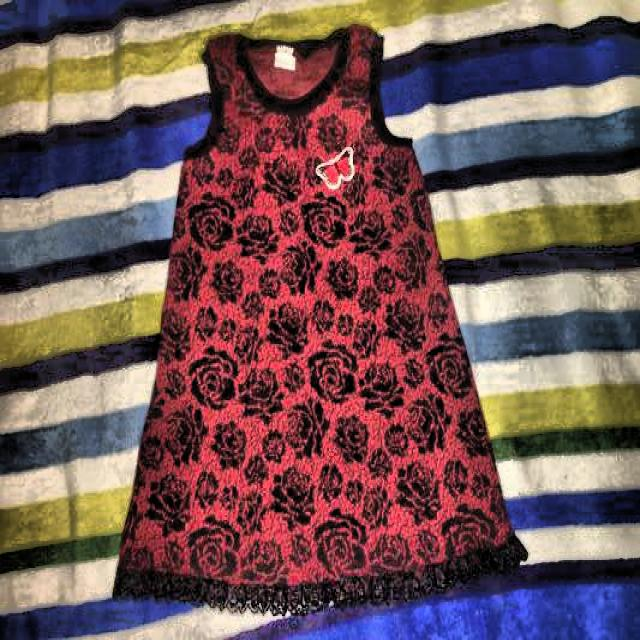clothes: (111, 19, 526, 612)
